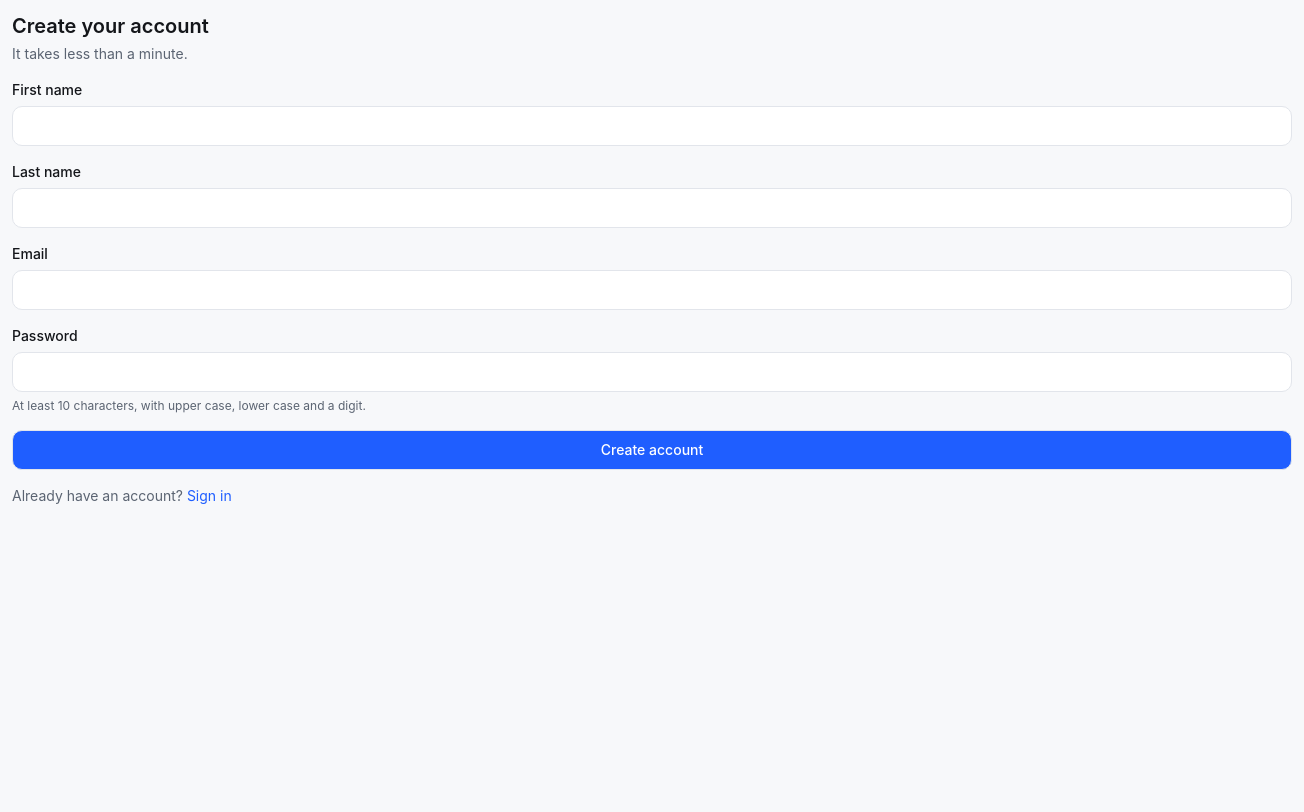
Scenario: RegisterPage › surfaces a duplicate email as a conflict message
This screenshot has width=1304, height=812.
Step 1. Type "Rita" into the field labelled "First name" → (652, 126), box 12,106 -> 1292,146
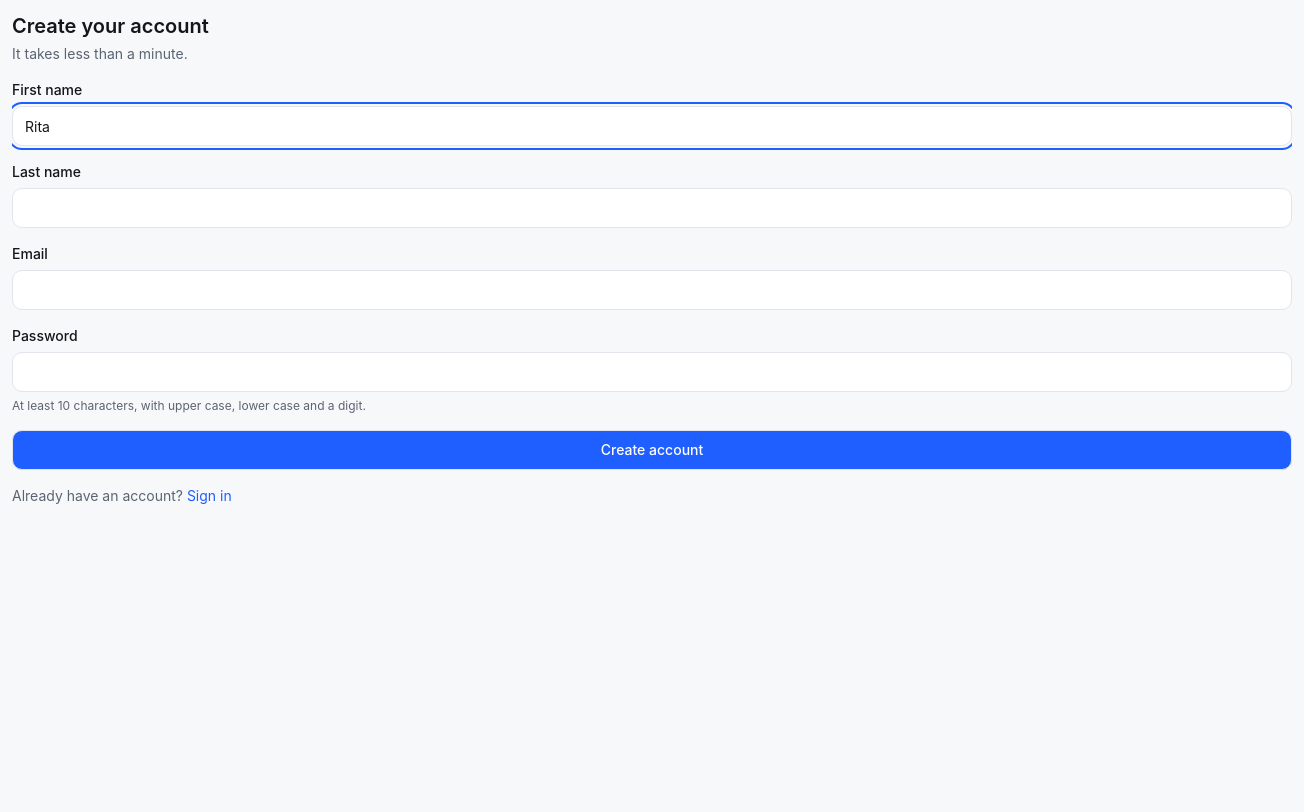
Step 2. Type "Silva" into the field labelled "Last name" → (652, 208), box 12,188 -> 1292,228
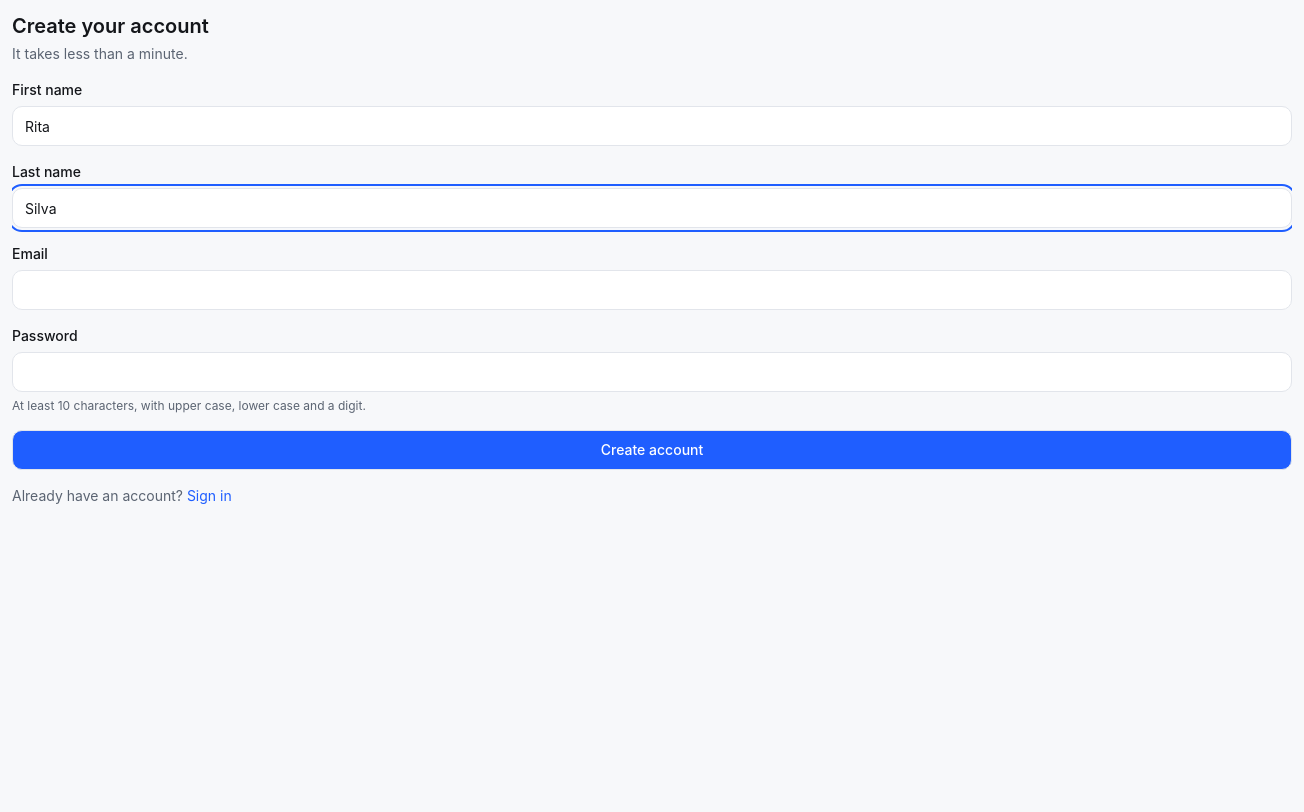
Step 3. Type "rita@example.com" into the field labelled "Email" → (652, 290), box 12,270 -> 1292,310
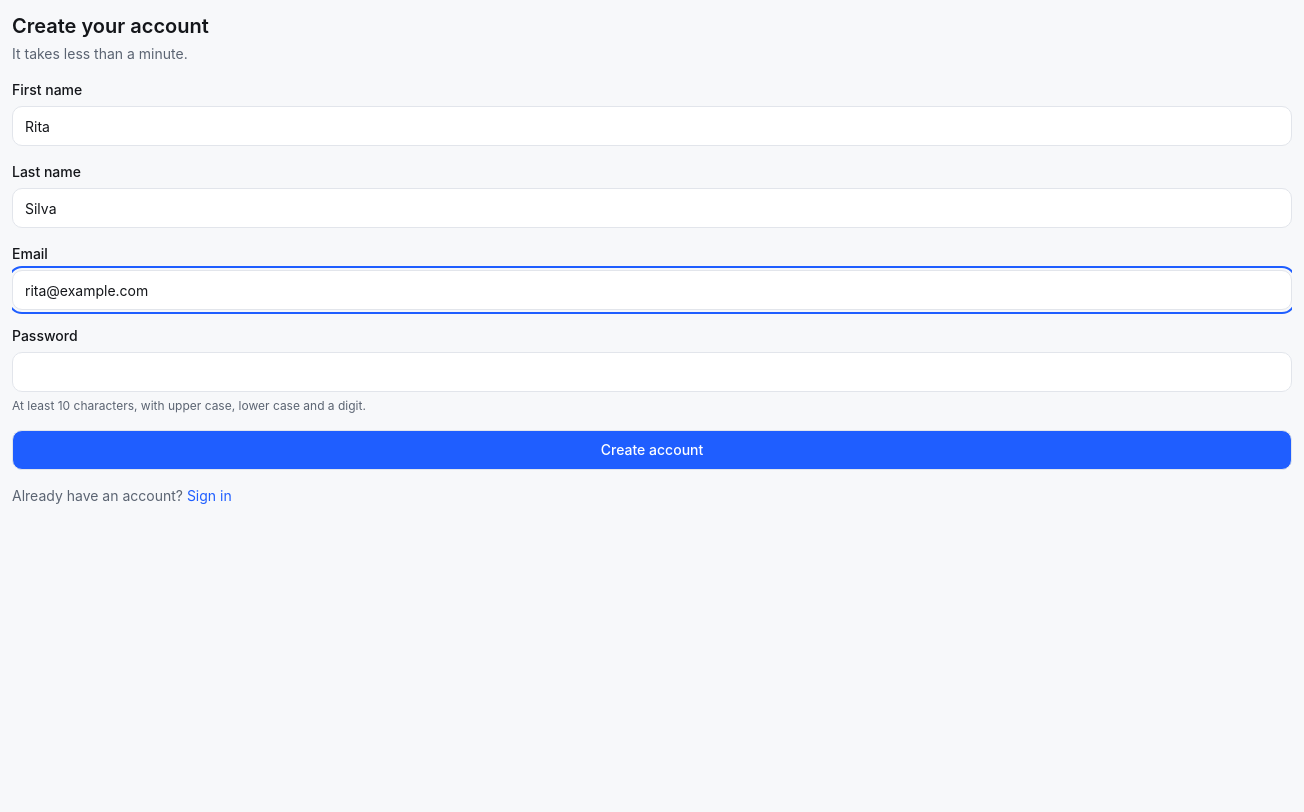
Step 4. Type "Str0ngPassphrase1" into the password field labelled "Password" → (652, 372), box 12,352 -> 1292,392
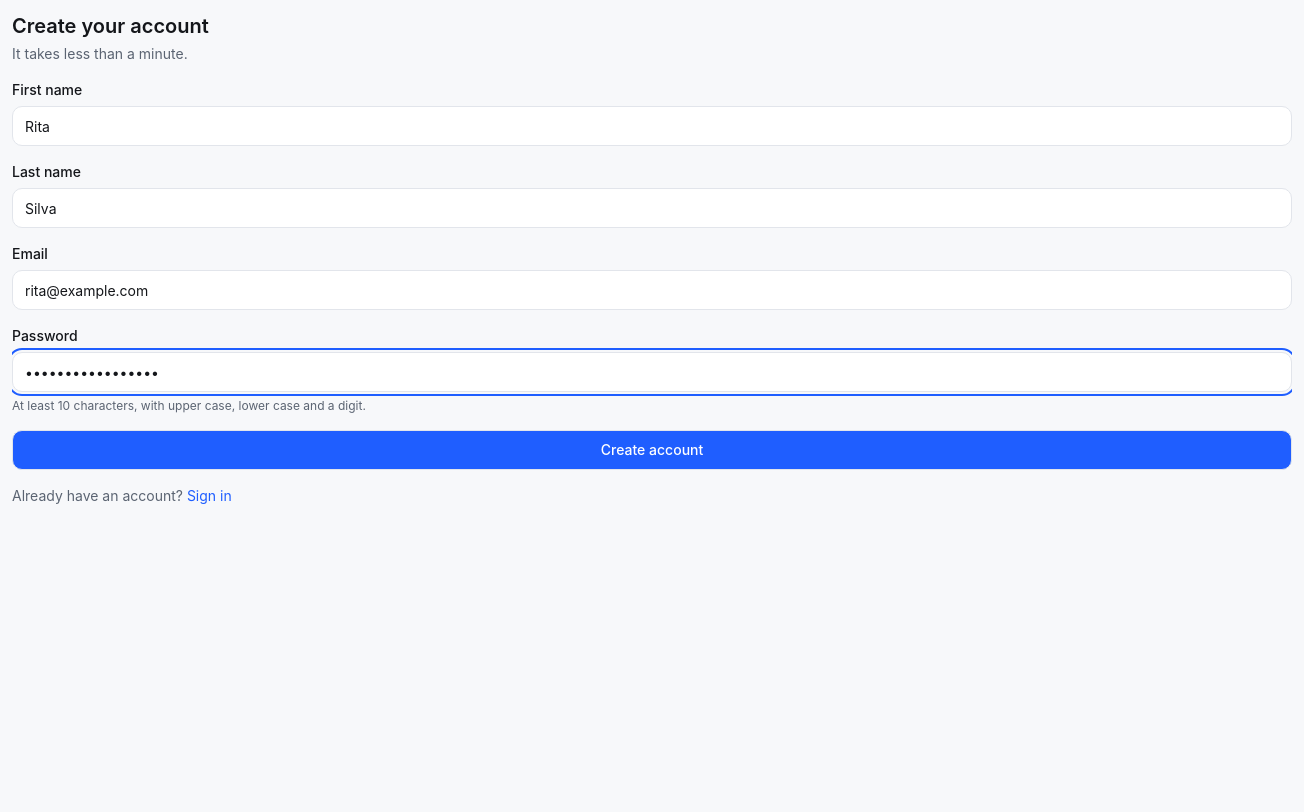
Step 5. Click the button "Create account" → click(652, 450), box 12,430 -> 1292,470
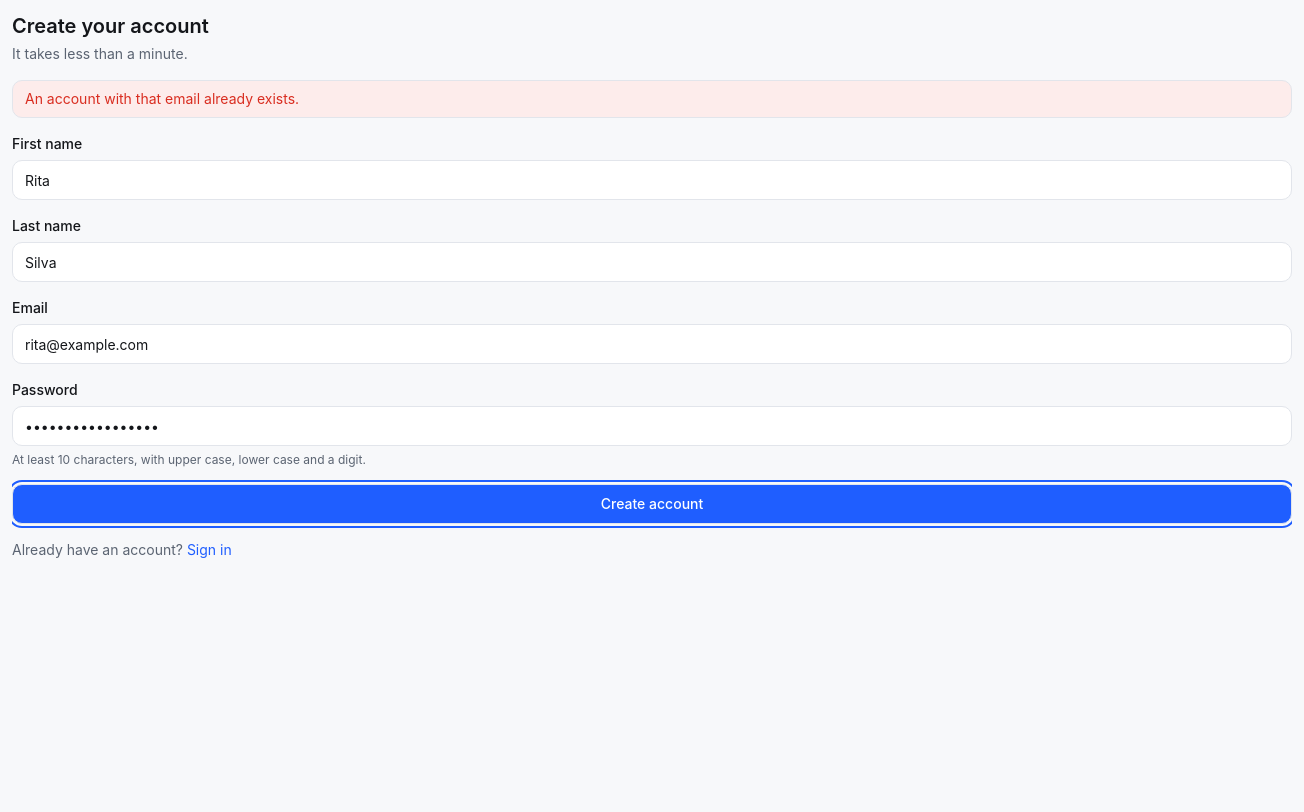
Expected: the message reads "An account with that email already exists.", 25,90 -> 299,107
